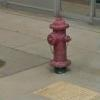a fire hydrant: (47, 13, 71, 69)
